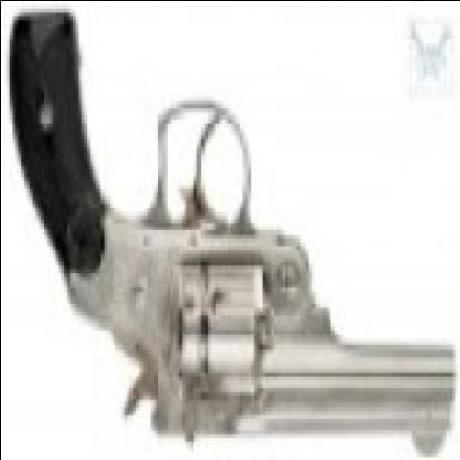weapon: (13, 12, 456, 442)
